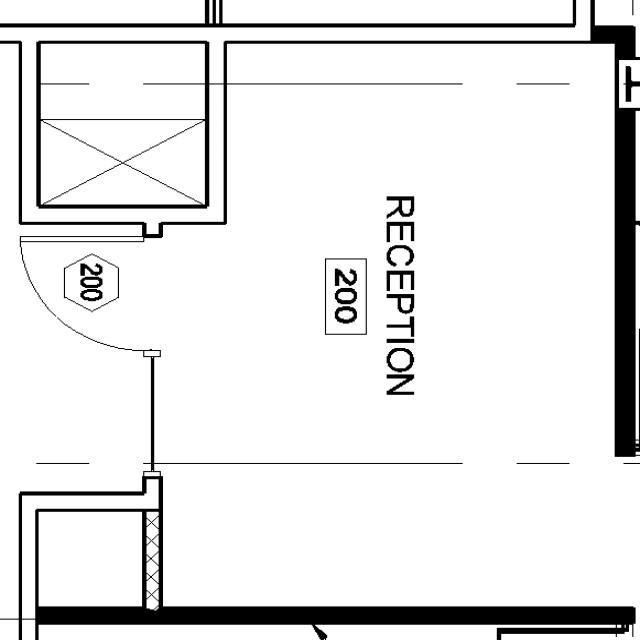Doors: (11, 231, 176, 365)
